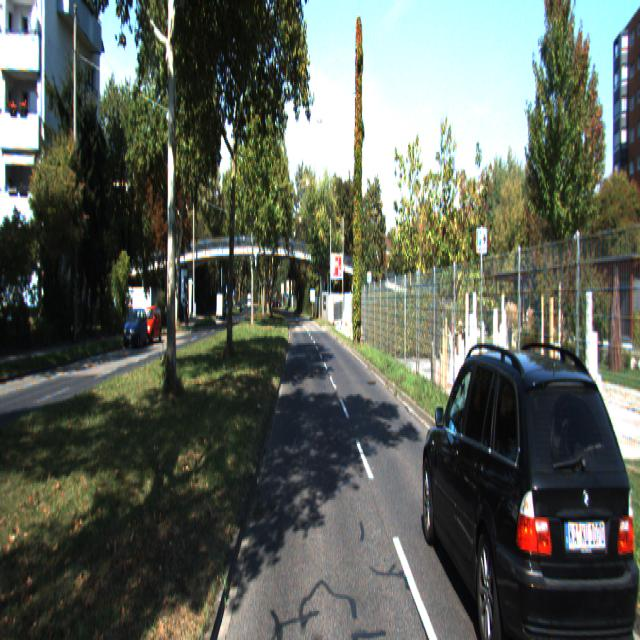Car: (418, 319, 634, 638), (122, 308, 148, 351), (138, 309, 161, 345)
